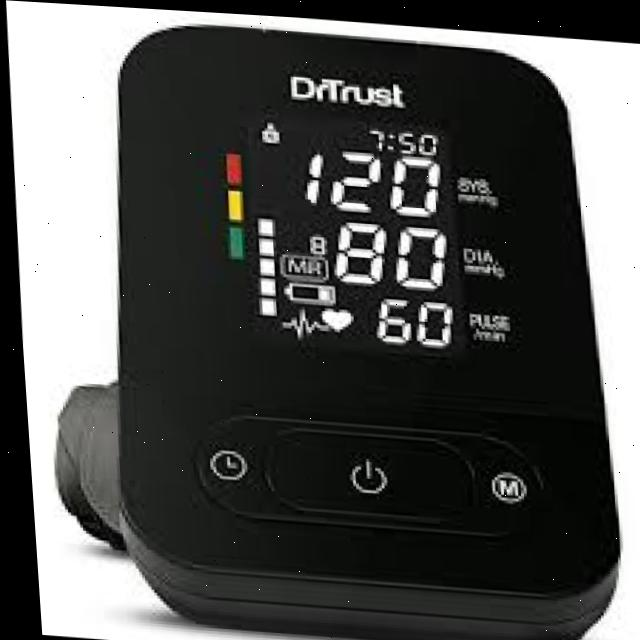dia: (320, 212, 456, 290)
pul: (360, 284, 458, 345)
ssd: (241, 79, 461, 365)
sys: (292, 141, 459, 216)
